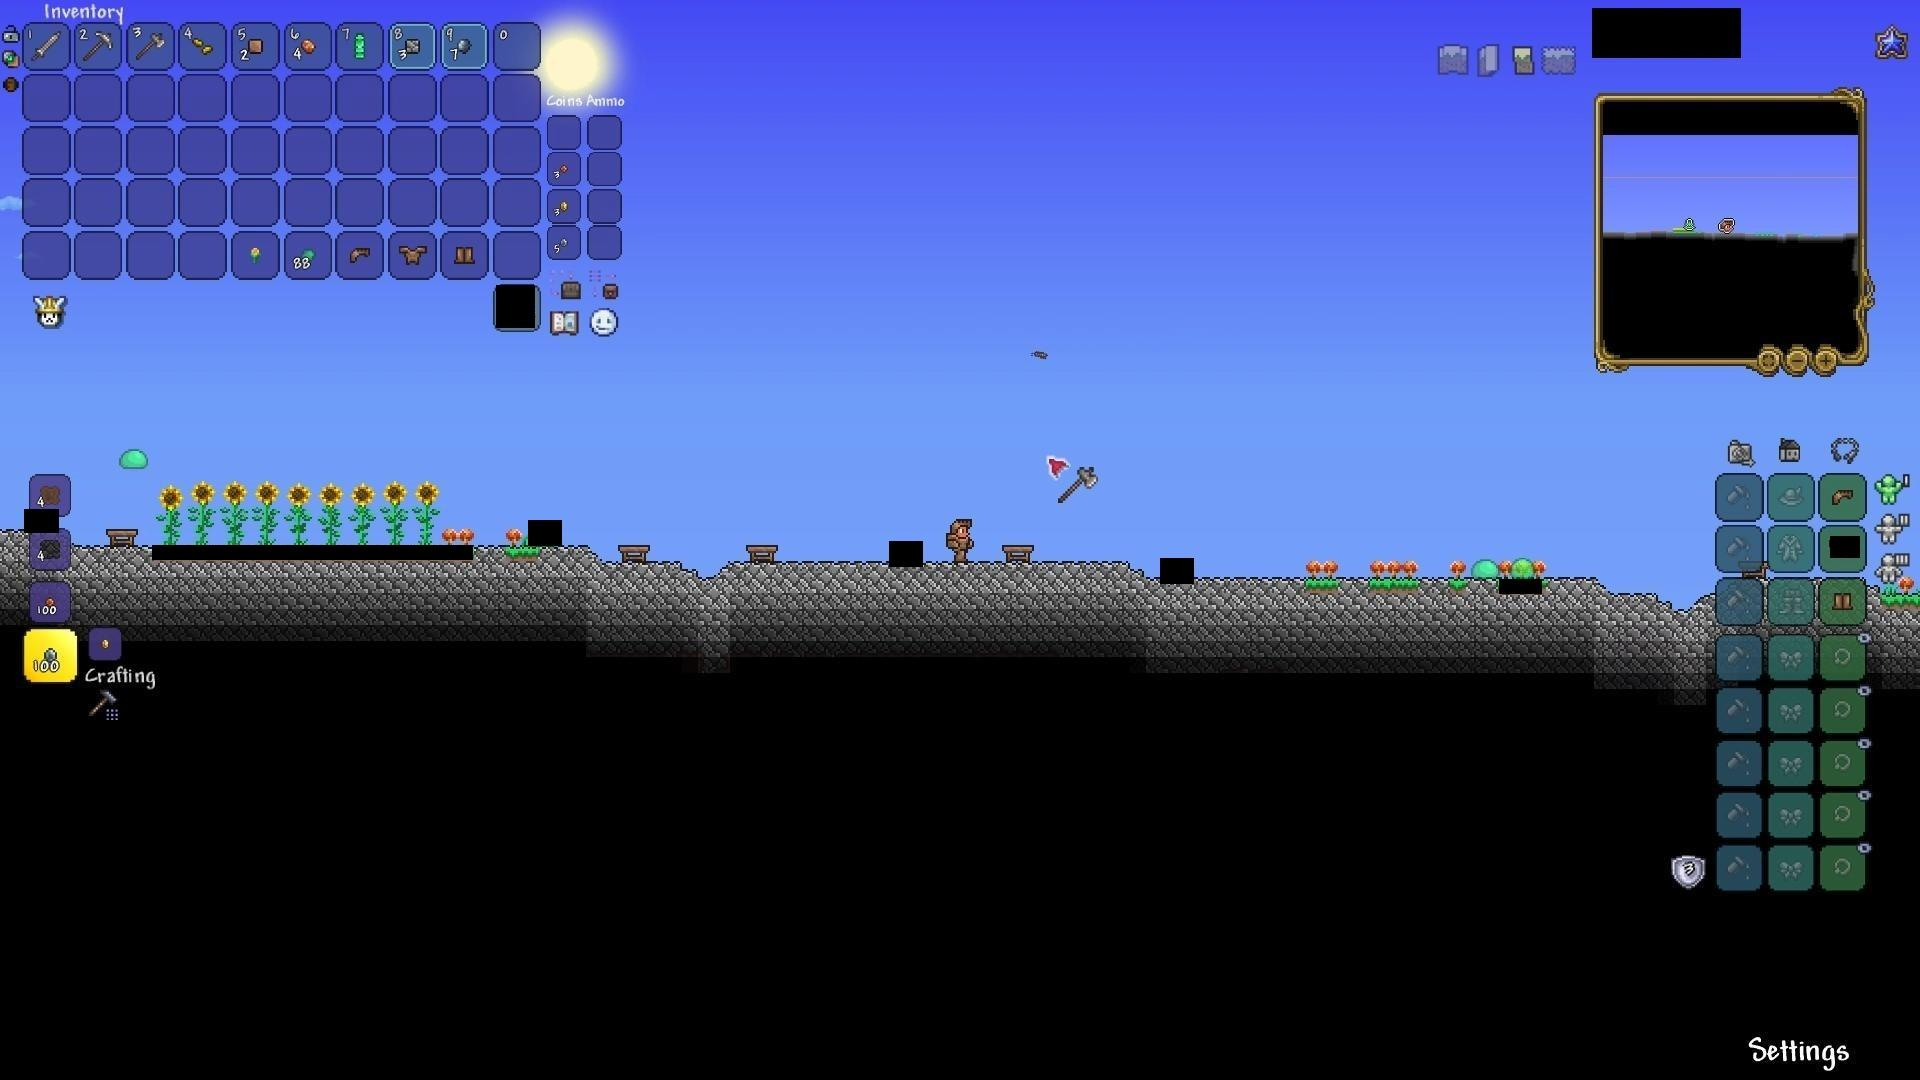breastplate: (397, 241, 427, 262)
dirt: (1370, 575, 1419, 592), (1307, 575, 1337, 592), (506, 545, 535, 562)
helmet: (1829, 484, 1857, 509), (347, 244, 375, 269)
legs: (1833, 588, 1858, 616), (452, 241, 477, 265)
slime: (117, 444, 150, 472), (1510, 556, 1539, 579), (1472, 556, 1501, 578)
workbench: (1001, 545, 1035, 571), (746, 543, 781, 568), (105, 525, 140, 549), (618, 543, 649, 568)
